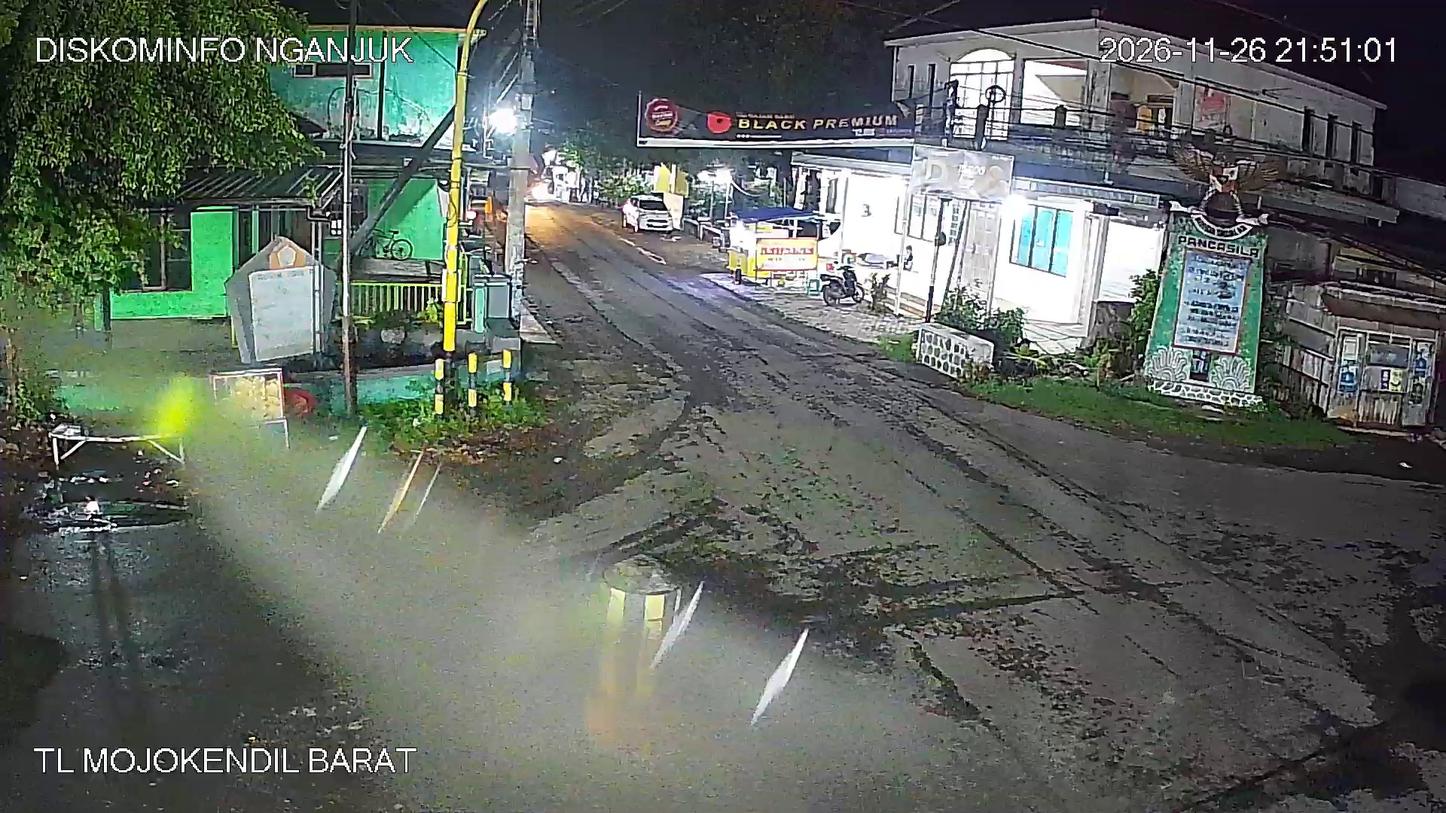Gerobak: (727, 201, 840, 289)
